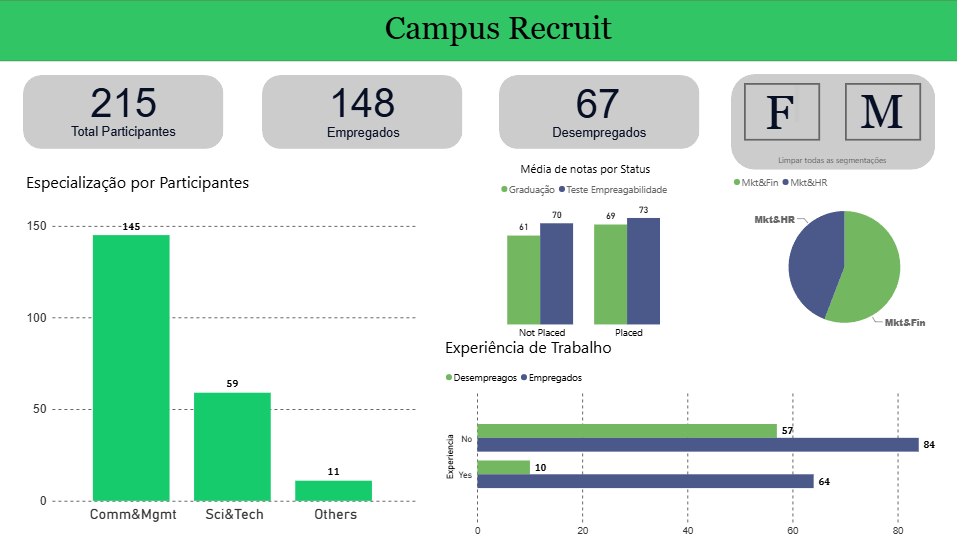

The page's visual inventory and layout, read from the dashboard file:
{"tool":"powerbi","page":{"name":"Página 1","canvas":[1600,900],"ordinal":0},"visuals":[{"type":"shape","box":[0,0,1600,101.9],"z":0},{"type":"textbox","box":[615,11.7,434.6,78.8],"z":1000},{"type":"shape","box":[40.4,125,334.4,123.4],"z":2000},{"type":"shape","box":[832.7,125,334.4,123.4],"z":3000},{"type":"shape","box":[438.5,125,334.4,123.4],"z":4000},{"type":"card","fields":{"Values":["CampusRecrut.Total_Participantes"]},"box":[100,125,215.6,81.2],"z":5000},{"type":"textbox","box":[40.4,203.8,334.4,42.2],"z":6000},{"type":"card","fields":{"Values":["CampusRecrut.empregados"]},"box":[507.7,125,193.8,81.2],"z":7000},{"type":"textbox","box":[440.4,205.8,334.4,42.2],"z":8000},{"type":"card","fields":{"Values":["CampusRecrut.desempreagos"]},"box":[888.5,128.8,220.3,78.1],"z":9000},{"type":"textbox","box":[832.7,205.8,334.4,39.1],"z":10000},{"type":"clusteredColumnChart","title":"Especialização por Participantes","fields":{"Category":["CampusRecrut.tipo_graduação"],"Y":["CampusRecrut.Total_Participantes"]},"box":[40.7,285.2,661.1,590.7],"z":11000},{"type":"shape","box":[1219.2,123.1,340.4,159.6],"z":12000},{"type":"textbox","box":[1271.2,136.5,67.3,84.6],"z":13000},{"type":"actionButton","box":[1242.3,138.5,126.9,96.2],"z":14000},{"type":"textbox","box":[1430.8,134.6,111.5,101.9],"z":15000},{"type":"actionButton","box":[1409.6,138.5,126.9,96.2],"z":16000},{"type":"actionButton","box":[1278.8,244.2,221.2,40.4],"z":17000},{"type":"pieChart","title":"Pós_graduação_MBA","fields":{"Category":["CampusRecrut.pós_graduação_MBA"],"Y":["CountNonNull(CampusRecrut.pós_graduação_MBA)"]},"box":[1218.5,281.5,381.5,294.4],"z":18000},{"type":"clusteredBarChart","title":"Experiência de Trabalho","fields":{"Category":["CampusRecrut.expe_trabalho"],"Y":["CampusRecrut.desempreagos","CampusRecrut.empregados"]},"box":[738.9,559.3,861.1,340.7],"z":19000},{"type":"lineClusteredColumnComboChart","title":"Média de notas por Status","fields":{"Category":["CampusRecrut.status"],"Y":["Avg(CampusRecrut.media_nota_sup)","Avg(CampusRecrut.test_procent_emprego)"]},"box":[711.1,268.5,531.5,307.4],"z":20000}]}

Visuals, with their boxes in screenshot pixels (x1, y1, x2, y2), scaled from the page's 1600x900 canvas onto the 957x539 screenshot:
shape: crop(0, 0, 956, 61)
textbox: crop(368, 7, 628, 54)
shape: crop(24, 75, 224, 149)
shape: crop(498, 75, 698, 149)
shape: crop(262, 75, 462, 149)
card - CampusRecrut.Total_Participantes: crop(60, 75, 189, 123)
textbox: crop(24, 122, 224, 147)
card - CampusRecrut.empregados: crop(304, 75, 420, 123)
textbox: crop(263, 123, 463, 149)
card - CampusRecrut.desempreagos: crop(531, 77, 663, 124)
textbox: crop(498, 123, 698, 147)
"Especialização por Participantes" clusteredColumnChart: crop(24, 171, 420, 525)
shape: crop(729, 74, 933, 169)
textbox: crop(760, 82, 801, 132)
actionButton: crop(743, 83, 819, 141)
textbox: crop(856, 81, 922, 142)
actionButton: crop(843, 83, 919, 141)
actionButton: crop(765, 146, 897, 170)
"Pós_graduação_MBA" pieChart: crop(729, 169, 956, 345)
"Experiência de Trabalho" clusteredBarChart: crop(442, 335, 956, 538)
"Média de notas por Status" lineClusteredColumnComboChart: crop(425, 161, 743, 345)
